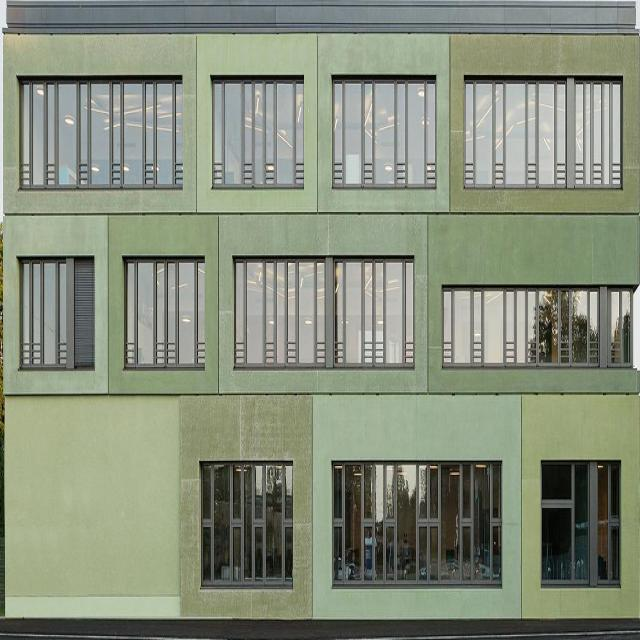wall: (3, 1, 640, 626)
windows: (333, 468, 502, 589), (19, 85, 183, 192), (442, 294, 634, 372), (201, 470, 293, 590), (334, 82, 434, 187), (466, 87, 565, 193), (211, 87, 303, 191), (234, 268, 325, 373), (542, 470, 622, 588), (335, 264, 414, 370), (124, 260, 203, 366), (22, 267, 95, 373)
